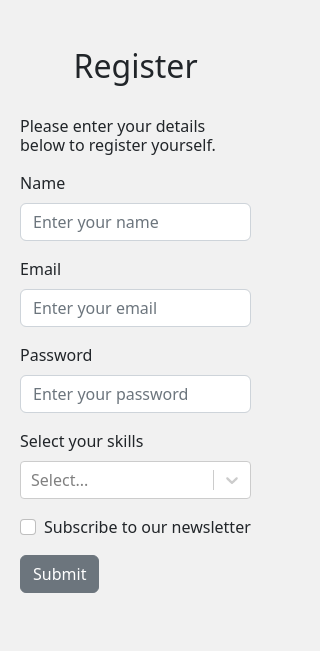
Test: Register component › should show error message when all the fields are not entered
The image size is (320, 651).
Step 1. Click the button → x=60, y=574, box x1=20 y1=555 x2=99 y2=593
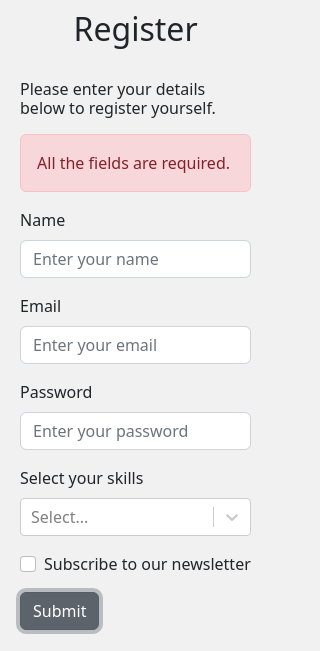
Check: the message "All the fields are required." is shown, box x1=20 y1=134 x2=251 y2=192
